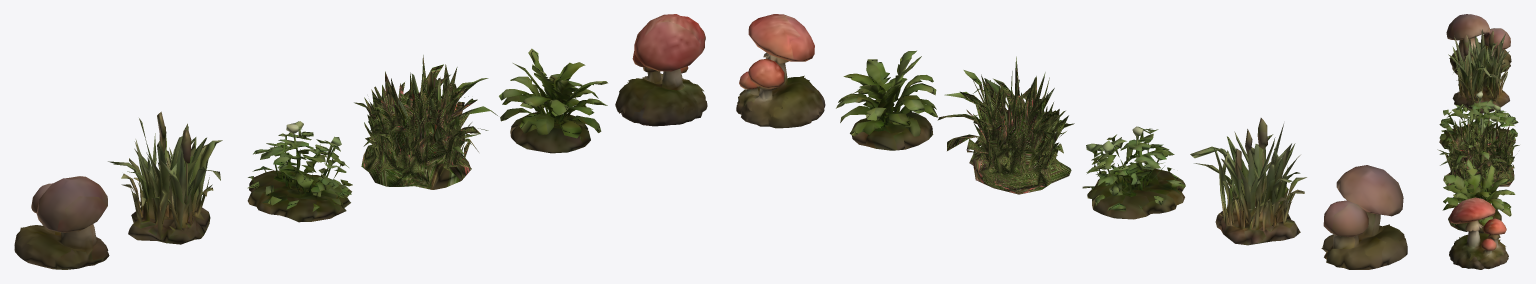
Rendered from ground_cover.glb.
3 views of the same model, side by side, from view 1: azimuth 30°, elevation 25°; view 2: azimuth 150°, elevation 25°; view 3: azimuth 270°, elevation 25° (orthographic). The views are drawn at different scales.
Visible parts, largest first — view 1: grass_tall, reed, mushroom_red, mushroom_brown, clover, fern; view 2: grass_tall, reed, mushroom_red, mushroom_brown, clover, fern; view 3: grass_tall, reed, mushroom_red, fern, clover, mushroom_brown.
Boxes of the visible parts, box(x1,y1,x2,y2) form: grass_tall: box(354, 55, 497, 189); reed: box(108, 111, 222, 244); mushroom_red: box(615, 14, 707, 126); mushroom_brown: box(14, 176, 109, 269); clover: box(247, 121, 352, 222); fern: box(499, 48, 607, 153); grass_tall: box(937, 56, 1074, 194); reed: box(1190, 118, 1306, 245); mushroom_red: box(736, 14, 825, 128); mushroom_brown: box(1321, 165, 1407, 269); clover: box(1082, 126, 1185, 219); fern: box(836, 50, 938, 150); grass_tall: box(1437, 113, 1519, 188); reed: box(1448, 29, 1509, 113); mushroom_red: box(1449, 197, 1508, 269); fern: box(1442, 159, 1515, 233); clover: box(1439, 91, 1518, 149); mushroom_brown: box(1446, 14, 1511, 74).
Size of the model in its own units: 2.02 by 0.31 by 0.3341.
1 material, 1 textured.
